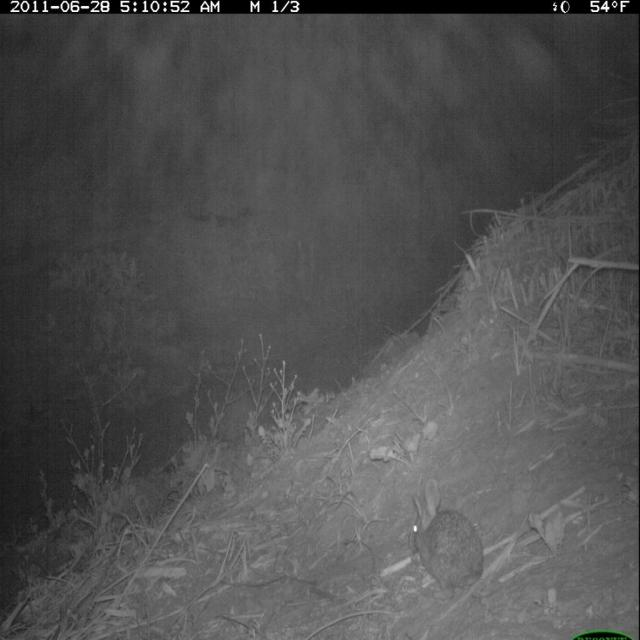rabbit: (402, 473, 491, 607)
